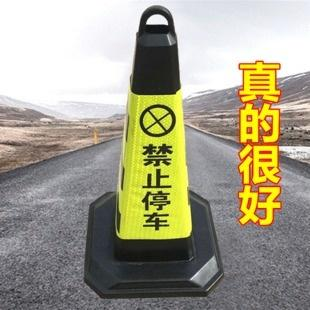cone_barrel: (97, 5, 209, 287), (230, 51, 281, 225)
